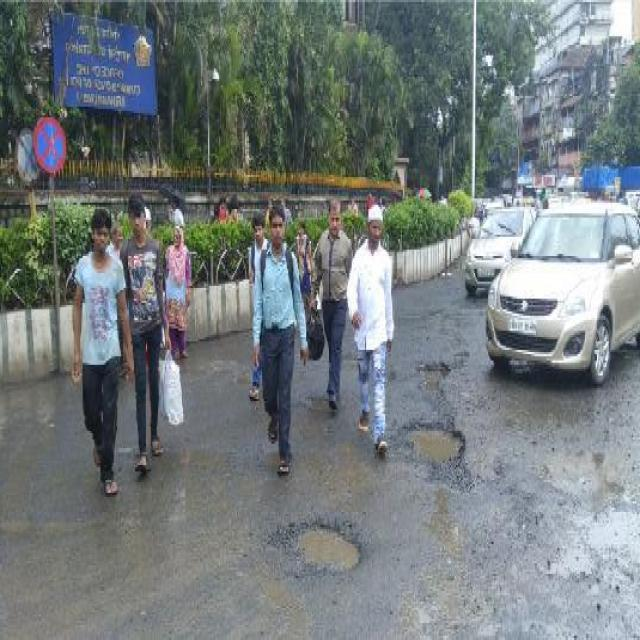pothole: (295, 516, 365, 572), (399, 416, 466, 472), (420, 356, 453, 384)
